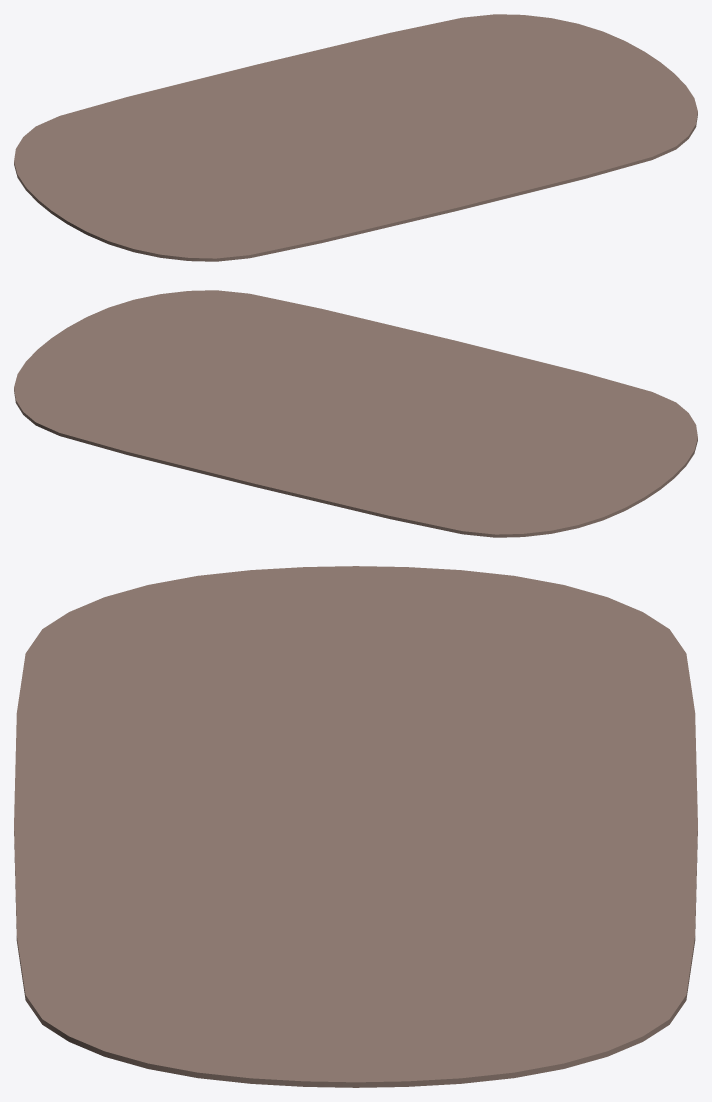
The model's file is RoundBathroomMat.glb.
3 renders of one model, top to bottom at view 1: azimuth 30°, elevation 25°; view 2: azimuth 150°, elevation 25°; view 3: azimuth 270°, elevation 25°, orthographic. The views are drawn at different scales.
Parts seen in each view (by area): view 1: Round Bathroom Mat; view 2: Round Bathroom Mat; view 3: Round Bathroom Mat.
Part boxes in pixels (bbox=[...]): Round Bathroom Mat: bbox=[14, 14, 697, 261]; Round Bathroom Mat: bbox=[14, 290, 697, 537]; Round Bathroom Mat: bbox=[14, 566, 697, 1087].
Size of the model in its own units: 2 by 0.01 by 1.12.
